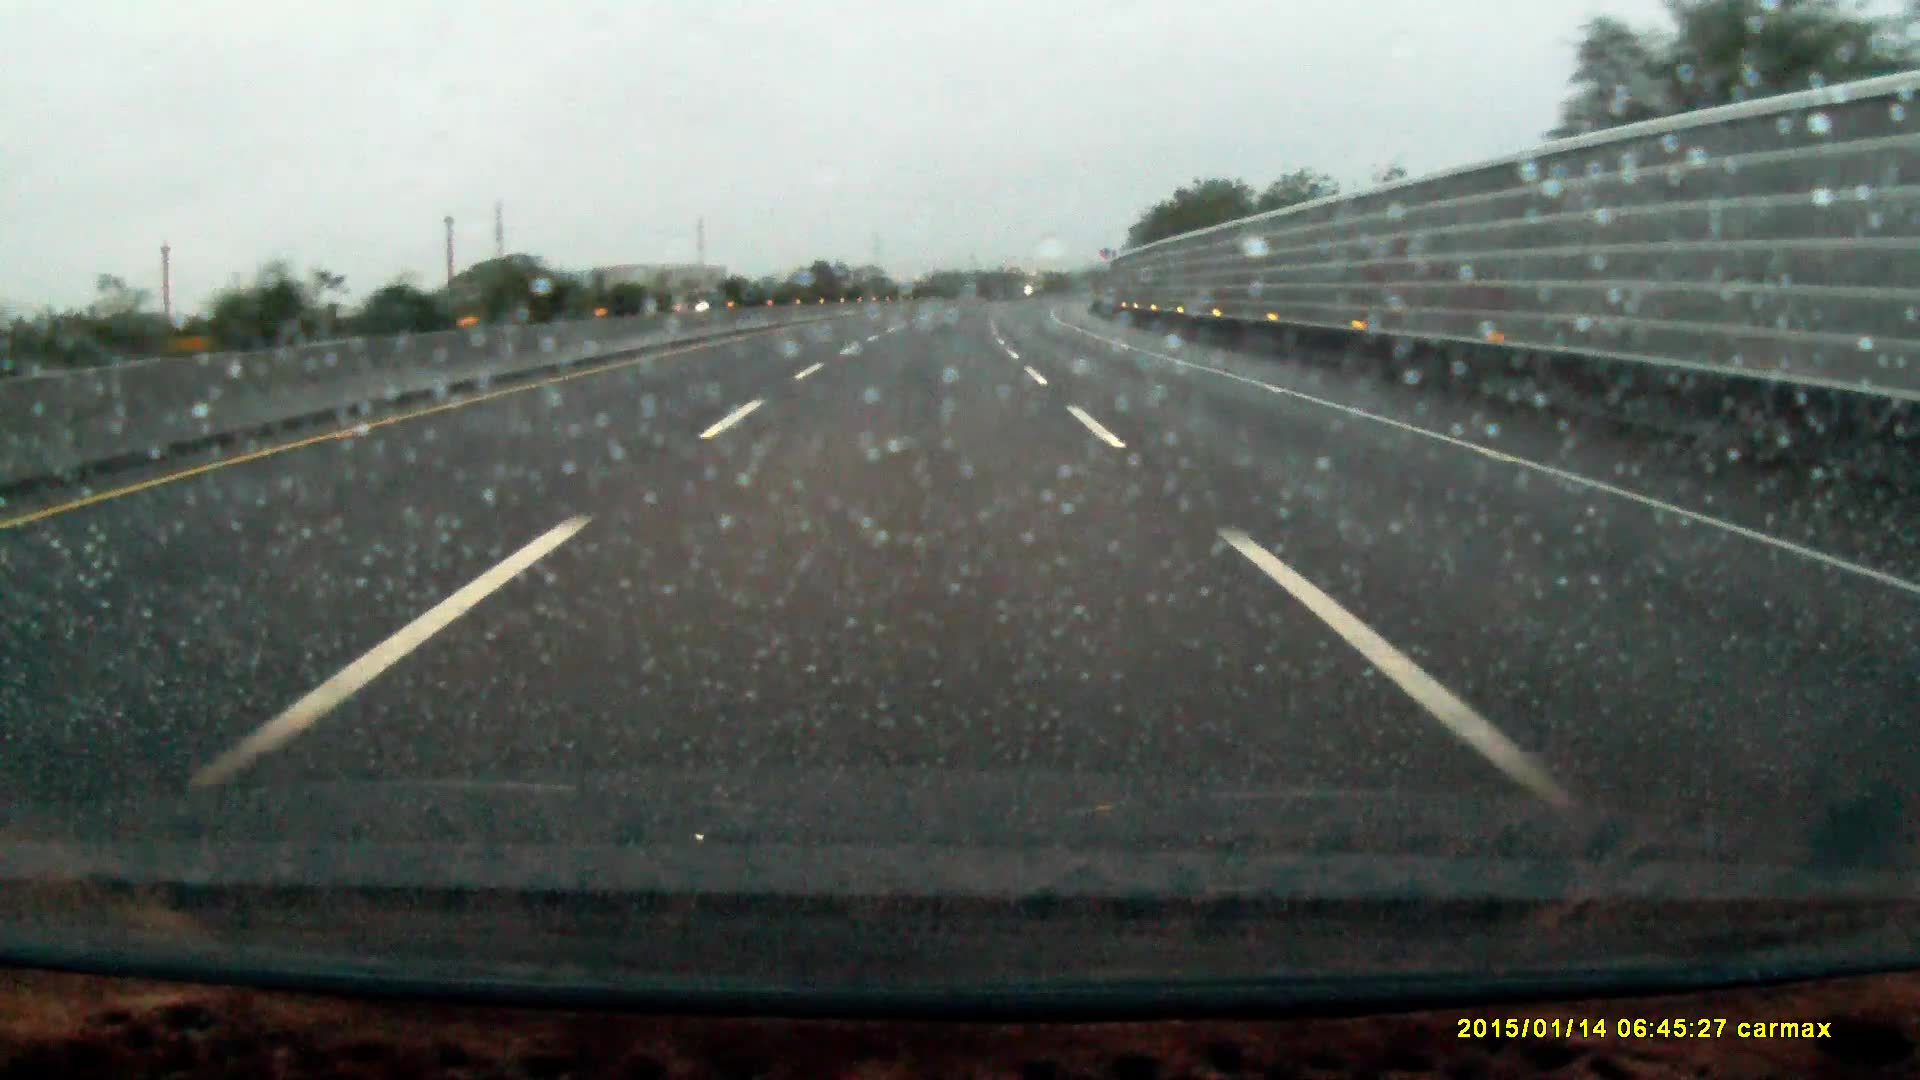vehicle: (663, 287, 725, 311)
